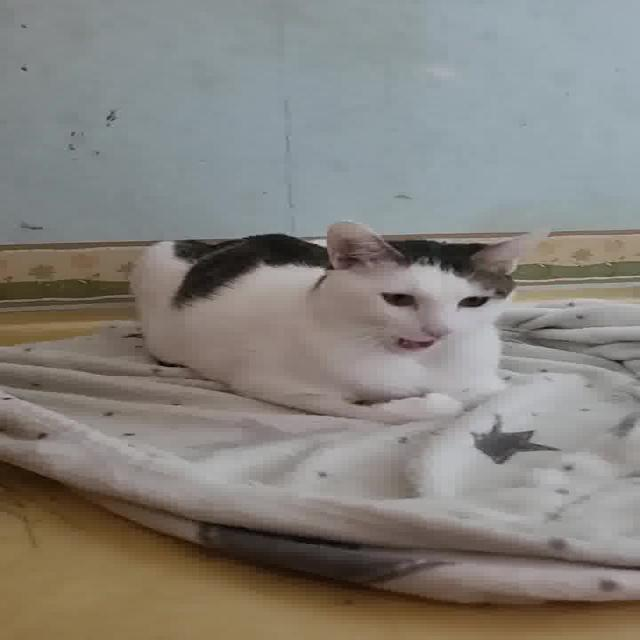cat: (120, 210, 563, 429)
